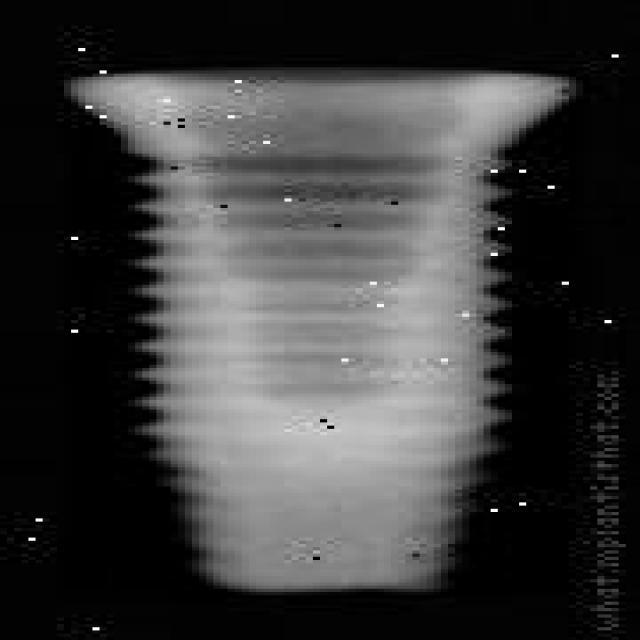Retained root: (64, 70, 576, 595)
